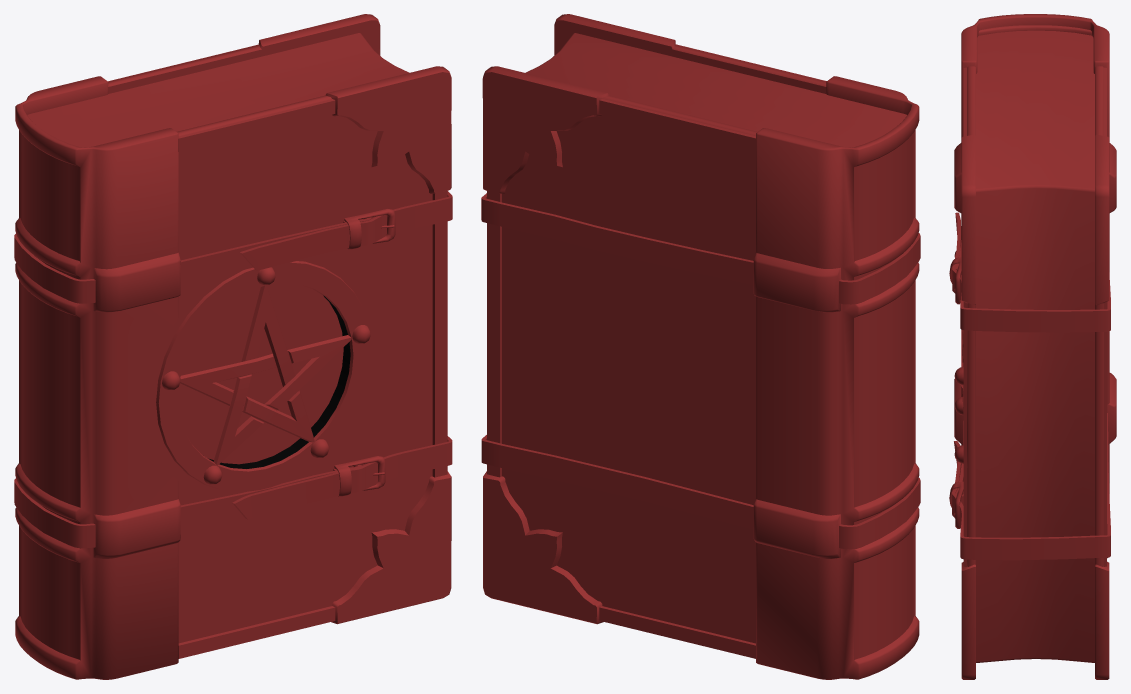
The model's file is Book_LP.FBX.
3 views of the same model, side by side, from view 1: azimuth 30°, elevation 25°; view 2: azimuth 150°, elevation 25°; view 3: azimuth 270°, elevation 25° (orthographic). The views are drawn at different scales.
Visible parts, largest first — view 1: Obl_mesh_lp002, zvezda_mesh_lp002, paper_mesh_lp002, paper2_mesh_lp002, ramka_mesh_lp002, remen dawn1_mesh_lp002, remen up1_mesh_lp002, remen3_mesh_lp002, remen up2_mesh_lp002, remen dawn2_mesh_lp002, lock_mesh_lp002, klepka_mesh_lp002; view 2: Obl_mesh_lp002, paper_mesh_lp002, ramka_mesh_lp002, remen dawn1_mesh_lp002, remen up1_mesh_lp002, remen3_mesh_lp002; view 3: paper_mesh_lp002, Obl_mesh_lp002, remen dawn1_mesh_lp002, remen up1_mesh_lp002, ramka_mesh_lp002, zadnik_mesh_lp002, lock_mesh_lp002, klepka_mesh_lp002.
Part boxes in pixels (x1,y1,x2,y2): Obl_mesh_lp002: [15, 14, 451, 679]; zvezda_mesh_lp002: [156, 261, 372, 491]; paper_mesh_lp002: [27, 33, 409, 147]; paper2_mesh_lp002: [178, 283, 343, 464]; ramka_mesh_lp002: [108, 44, 447, 658]; remen dawn1_mesh_lp002: [232, 436, 452, 519]; remen up1_mesh_lp002: [240, 191, 452, 270]; remen3_mesh_lp002: [14, 233, 95, 548]; remen up2_mesh_lp002: [180, 217, 371, 284]; remen dawn2_mesh_lp002: [180, 464, 361, 529]; lock_mesh_lp002: [334, 209, 395, 496]; klepka_mesh_lp002: [162, 267, 370, 484]; Obl_mesh_lp002: [482, 14, 919, 679]; paper_mesh_lp002: [525, 33, 907, 147]; ramka_mesh_lp002: [487, 44, 826, 658]; remen dawn1_mesh_lp002: [481, 435, 753, 529]; remen up1_mesh_lp002: [481, 193, 753, 284]; remen3_mesh_lp002: [839, 233, 920, 549]; paper_mesh_lp002: [976, 30, 1094, 662]; Obl_mesh_lp002: [954, 14, 1116, 679]; remen dawn1_mesh_lp002: [952, 413, 1110, 560]; remen up1_mesh_lp002: [952, 212, 1110, 332]; ramka_mesh_lp002: [963, 67, 1106, 566]; zadnik_mesh_lp002: [978, 25, 1091, 35]; lock_mesh_lp002: [949, 257, 963, 528]; klepka_mesh_lp002: [954, 251, 963, 463].
Bounding box in the file's own units: 6862 × 9112 × 2780.
